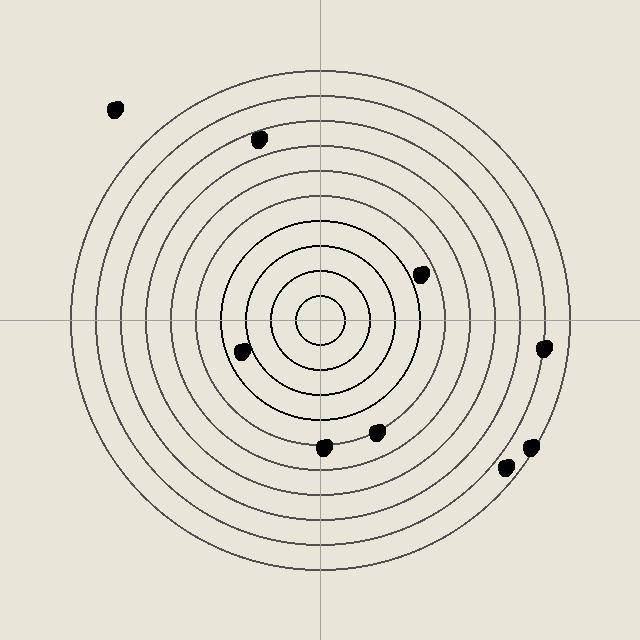random_scatter: (366, 422, 386, 442), (231, 341, 251, 361), (248, 129, 268, 149), (104, 99, 124, 119), (313, 437, 333, 457), (520, 437, 540, 457), (410, 264, 430, 284), (495, 457, 515, 477), (533, 338, 553, 358)
